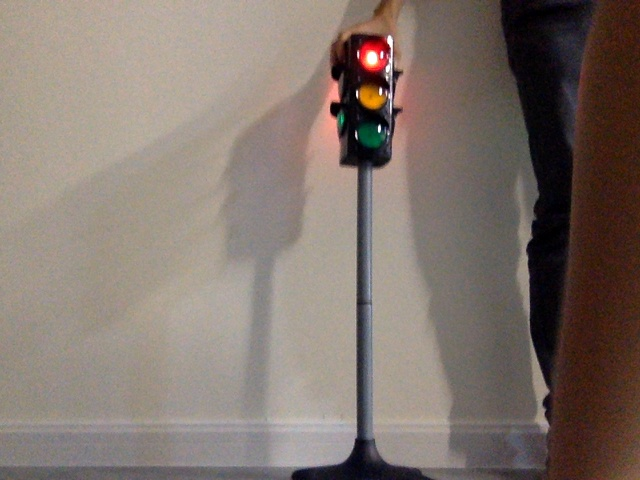red: (354, 38, 389, 147)
